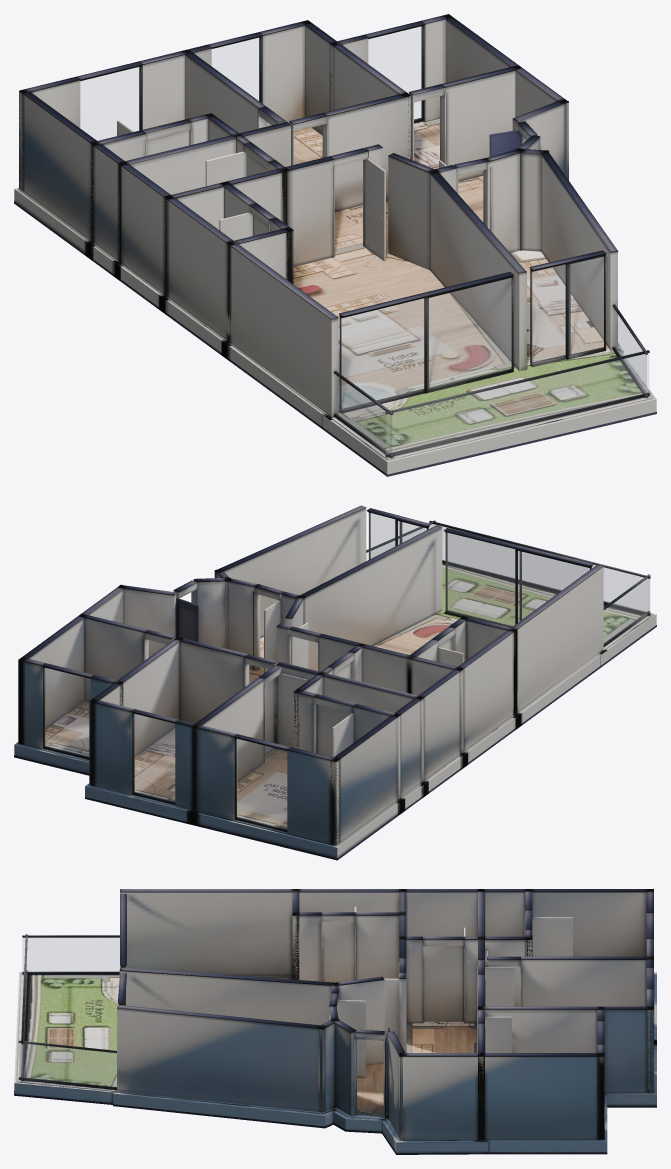
3 views of the same model, one above another, from view 1: azimuth 30°, elevation 25°; view 2: azimuth 150°, elevation 25°; view 3: azimuth 270°, elevation 25° (orthographic). The views are drawn at different scales.
Parts seen in each view (by area): view 1: plan, glass3_m, railg1_m, glass4_m, glass0_m, glass2_m, railg2_m, glass1_m, railg0_m; view 2: plan, glass3_m, railg1_m, glass0_m, glass2_m, glass1_m, railg2_m, glass4_m; view 3: plan, railg0_m, railg2_m.
Part boxes in pixels (<box>): plan: <box>14,14,656,476</box>; glass3_m: <box>341,278,511,409</box>; railg1_m: <box>386,353,648,454</box>; glass4_m: <box>531,257,603,363</box>; glass0_m: <box>80,67,139,140</box>; glass2_m: <box>368,26,421,119</box>; railg2_m: <box>335,374,392,454</box>; glass1_m: <box>212,38,259,100</box>; railg0_m: <box>614,309,646,394</box>; plan: <box>14,505,656,860</box>; glass3_m: <box>445,532,589,626</box>; railg1_m: <box>430,524,649,612</box>; glass0_m: <box>236,739,286,829</box>; glass2_m: <box>44,668,90,756</box>; glass1_m: <box>134,714,174,801</box>; railg2_m: <box>604,579,648,643</box>; glass4_m: <box>368,513,426,559</box>; plan: <box>14,889,656,1154</box>; railg0_m: <box>19,1043,116,1087</box>; railg2_m: <box>22,938,119,971</box>.
Size of the model in its own units: 9.89 by 2.62 by 15.77.
Materials: 2 (1 with a texture image).
